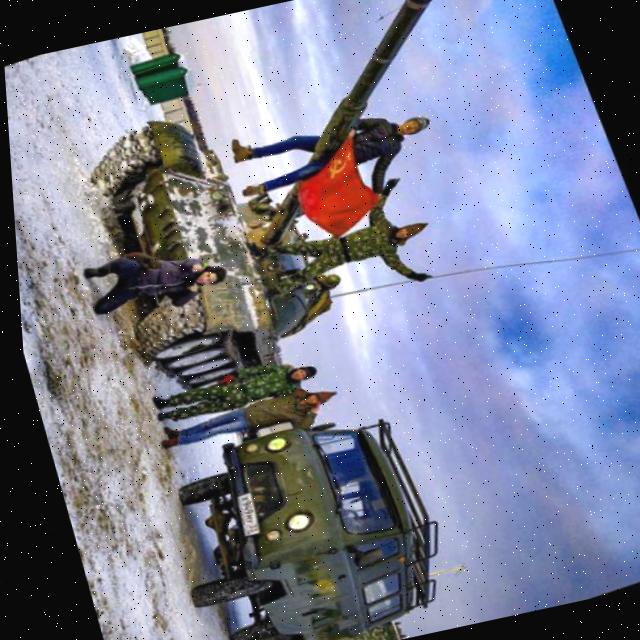rocket: (184, 0, 519, 246)
